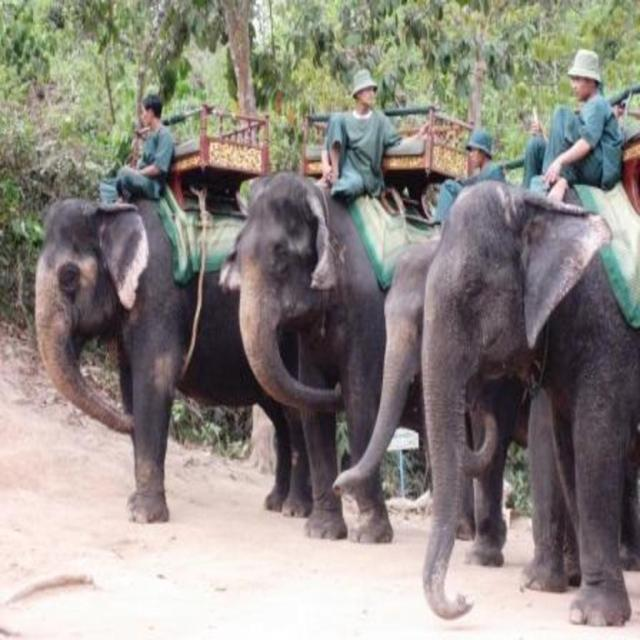Elephant: (420, 178, 640, 626), (33, 194, 314, 525)
person: (316, 68, 429, 204), (528, 48, 624, 202), (432, 127, 507, 226), (114, 94, 174, 204)
